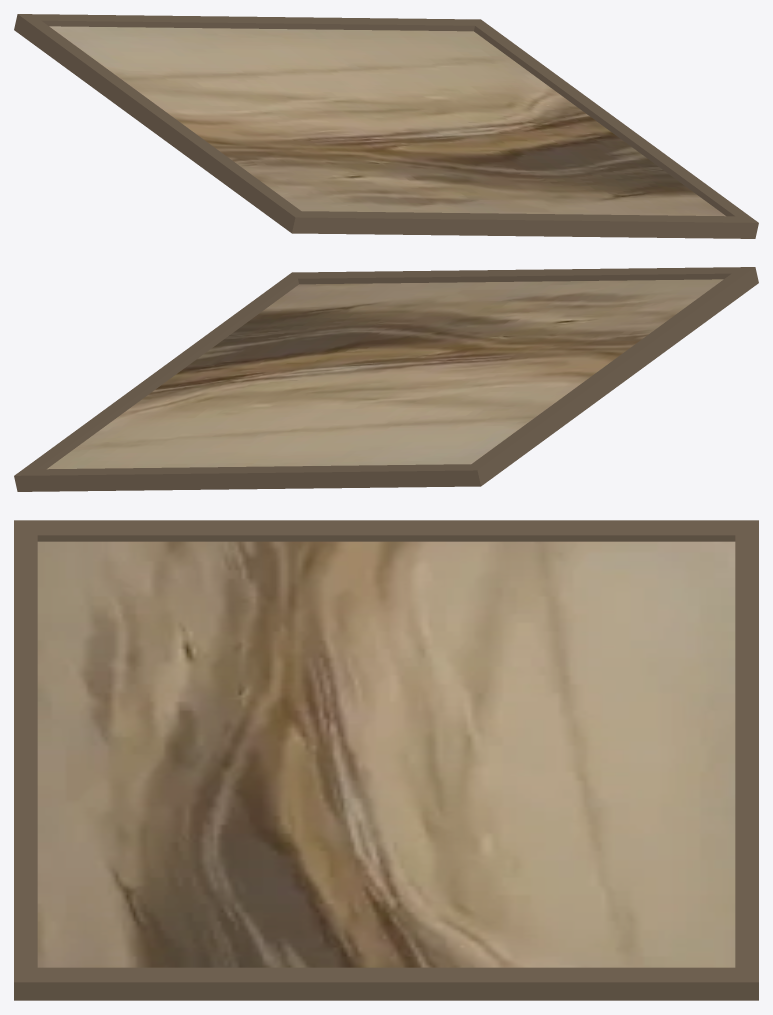
The model's file is component_010_painting_middle.glb.
3 views of the same model, one above another, from view 1: azimuth 30°, elevation 25°; view 2: azimuth 150°, elevation 25°; view 3: azimuth 270°, elevation 25° (orthographic). The views are drawn at different scales.
Visible parts, largest first — view 1: 010_painting_middle_004_instance_004_photo_000, 010_painting_middle_003_instance_003_photo_-01, 010_painting_middle_001_instance_001_photo_-01, 010_painting_middle_002_instance_002_photo_-01, 010_painting_middle_000_instance_000_photo_-01; view 2: 010_painting_middle_004_instance_004_photo_000, 010_painting_middle_002_instance_002_photo_-01, 010_painting_middle_001_instance_001_photo_-01, 010_painting_middle_003_instance_003_photo_-01, 010_painting_middle_000_instance_000_photo_-01; view 3: 010_painting_middle_004_instance_004_photo_000, 010_painting_middle_000_instance_000_photo_-01, 010_painting_middle_001_instance_001_photo_-01, 010_painting_middle_002_instance_002_photo_-01, 010_painting_middle_003_instance_003_photo_-01.
Boxes of the visible parts, <box> form: 010_painting_middle_004_instance_004_photo_000: <box>49,26,725,216</box>; 010_painting_middle_003_instance_003_photo_-01: <box>302,211,743,238</box>; 010_painting_middle_001_instance_001_photo_-01: <box>14,14,310,233</box>; 010_painting_middle_002_instance_002_photo_-01: <box>33,14,474,31</box>; 010_painting_middle_000_instance_000_photo_-01: <box>466,19,758,238</box>; 010_painting_middle_004_instance_004_photo_000: <box>47,279,723,469</box>; 010_painting_middle_002_instance_002_photo_-01: <box>29,464,470,491</box>; 010_painting_middle_001_instance_001_photo_-01: <box>462,267,758,486</box>; 010_painting_middle_003_instance_003_photo_-01: <box>298,267,739,284</box>; 010_painting_middle_000_instance_000_photo_-01: <box>14,272,306,491</box>; 010_painting_middle_004_instance_004_photo_000: <box>37,541,735,967</box>; 010_painting_middle_000_instance_000_photo_-01: <box>14,967,758,1000</box>; 010_painting_middle_001_instance_001_photo_-01: <box>14,520,758,541</box>; 010_painting_middle_002_instance_002_photo_-01: <box>735,535,758,967</box>; 010_painting_middle_003_instance_003_photo_-01: <box>14,535,37,967</box>.
Bounding box in the file's own units: 0.2095 × 0.0573 × 0.2159.
2 materials, 1 textured.
